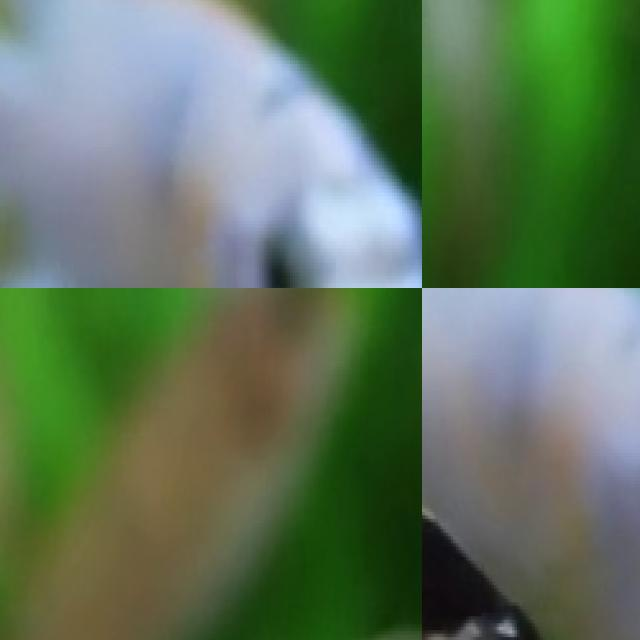fish: (0, 0, 422, 288), (0, 288, 344, 640)
